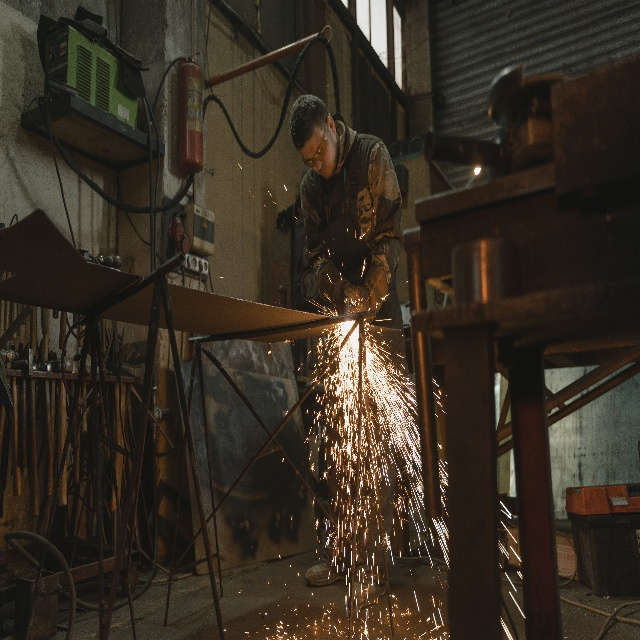Gafas: (301, 112, 330, 169)
Guantes: (336, 262, 388, 323), (318, 263, 359, 314)
